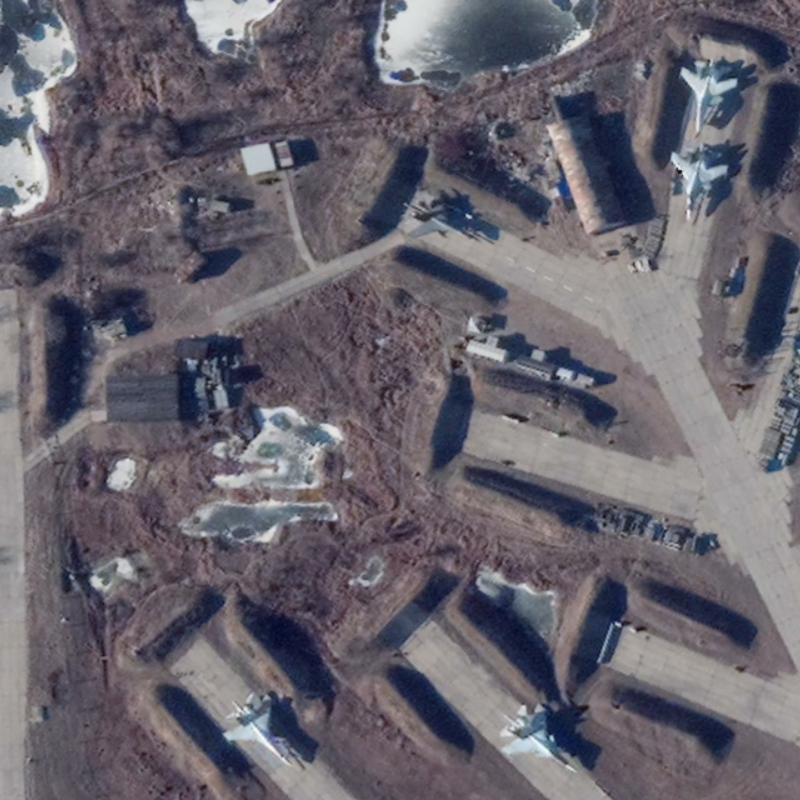A1: (220, 689, 295, 769), (677, 58, 740, 136), (402, 189, 475, 241)
A19: (498, 701, 583, 776), (668, 141, 732, 224)
